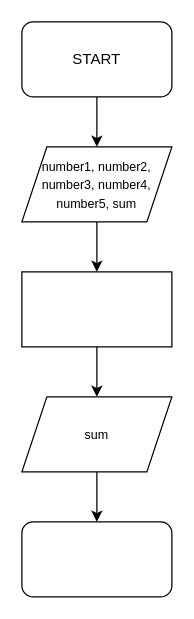
This 194x619 diagram has some shape labels left out. Each missing label, with the box of its shape:
FINISH: (21, 521, 172, 597)
sum = number1 + number2 + number3 + number4 + number5: (21, 271, 172, 347)
